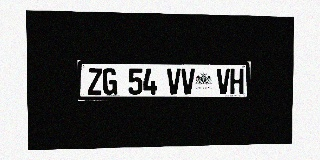4: (143, 68, 157, 95)
5: (128, 68, 143, 95)
G: (103, 68, 117, 95)
H: (230, 69, 244, 94)
V: (167, 68, 181, 95), (181, 68, 195, 95), (217, 69, 230, 94)
Z: (88, 68, 102, 95)
